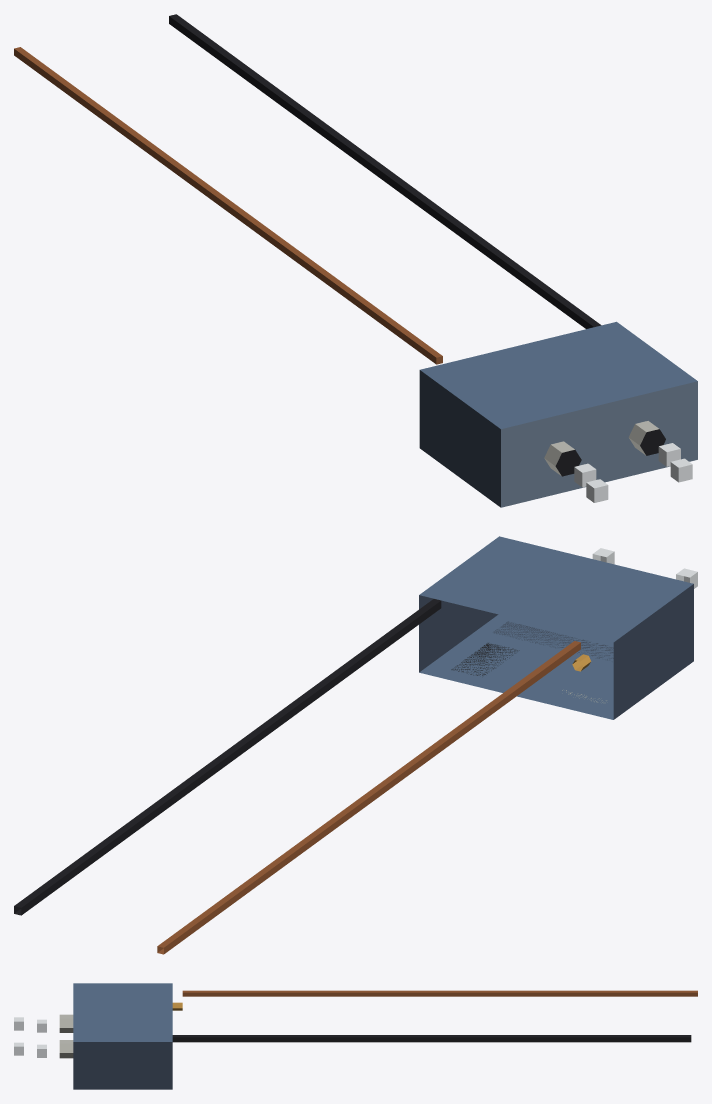
Rendered from c_whumid.obj.
The picture shows the model from 3 angles, top to bottom: view 1: azimuth 30°, elevation 25°; view 2: azimuth 150°, elevation 25°; view 3: azimuth 270°, elevation 25°; orthographic projection. The views are drawn at different scales.
Bounding box in the file's own units: 0.42 × 0.194 × 2.07.
1 material, 1 textured.
